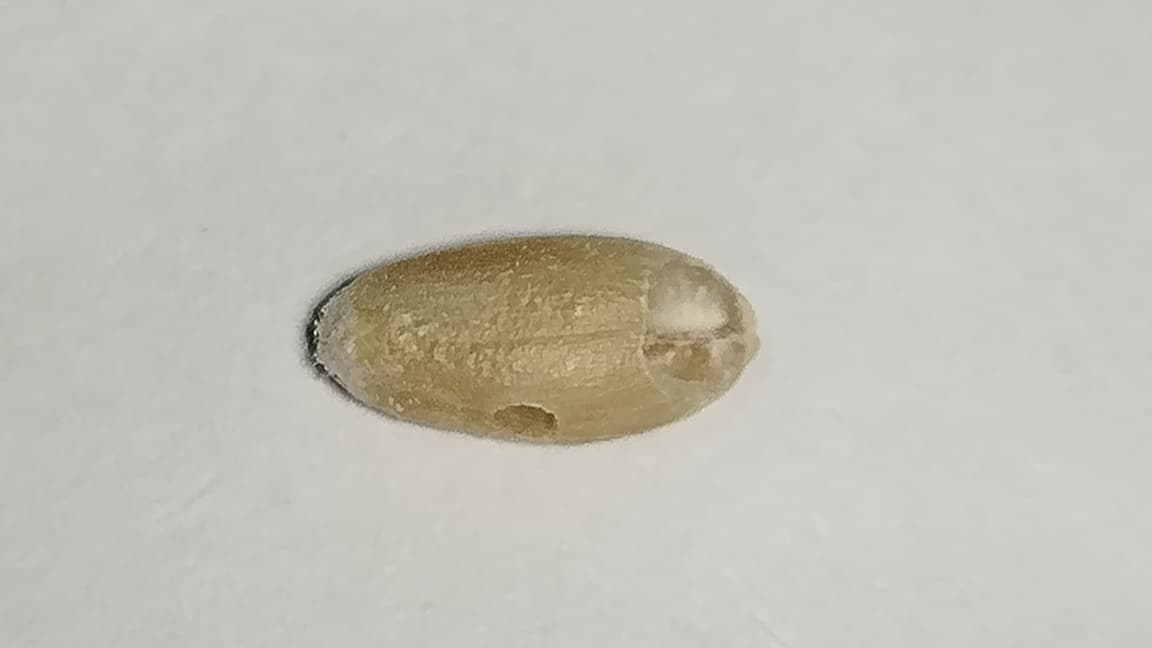damage: (293, 228, 768, 449)
insectdamage: (636, 242, 758, 417), (464, 365, 596, 462)
